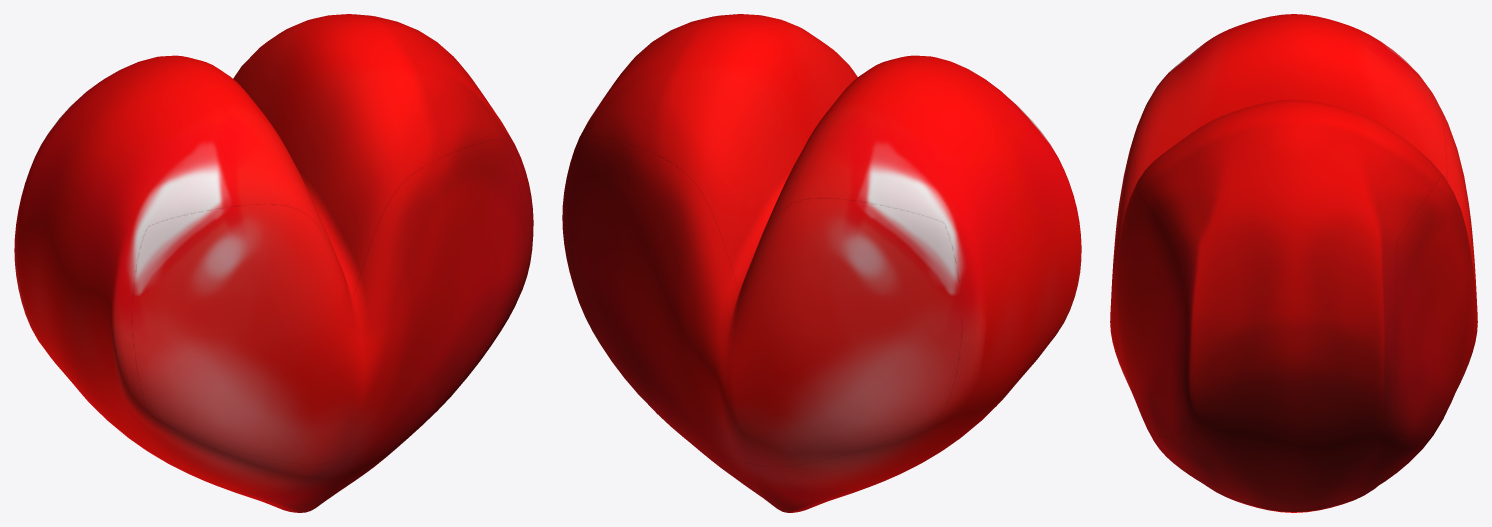
The model's file is Mini Hearth.fbx.
3 renders of one model, left to right at view 1: azimuth 30°, elevation 25°; view 2: azimuth 150°, elevation 25°; view 3: azimuth 270°, elevation 25°, orthographic. The views are drawn at different scales.
Visible parts, largest first — view 1: Sus.004; view 2: Sus.004; view 3: Sus.004.
Boxes of the visible parts, x1,y1,x2,y2 form: Sus.004: (14,14,533,512); Sus.004: (562,14,1081,512); Sus.004: (1110,14,1477,512).
Bounding box in the file's own units: 12.73 × 12.93 × 9.65.
